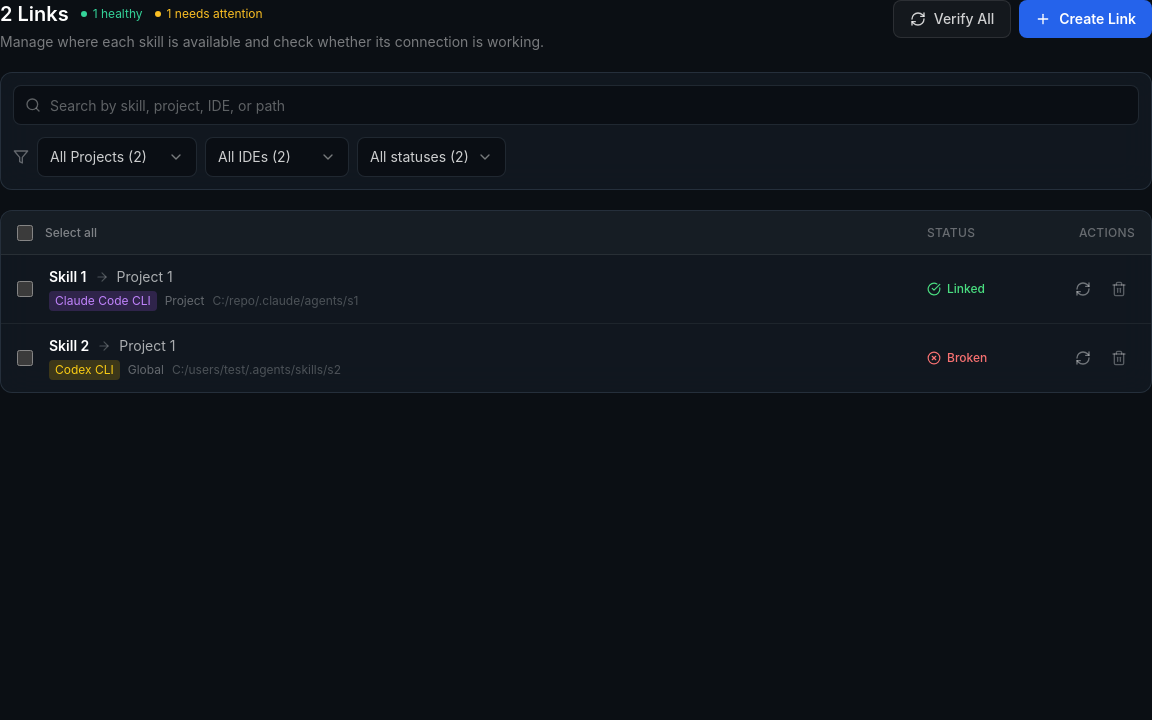
Test: LinksPage › removes selected links in bulk and reports partial failures
Expected: the heading "2 Links" is shown, [0, 0, 69, 28]
Click the checkbox labelled "Select all": (25, 232) [17, 224, 33, 240]
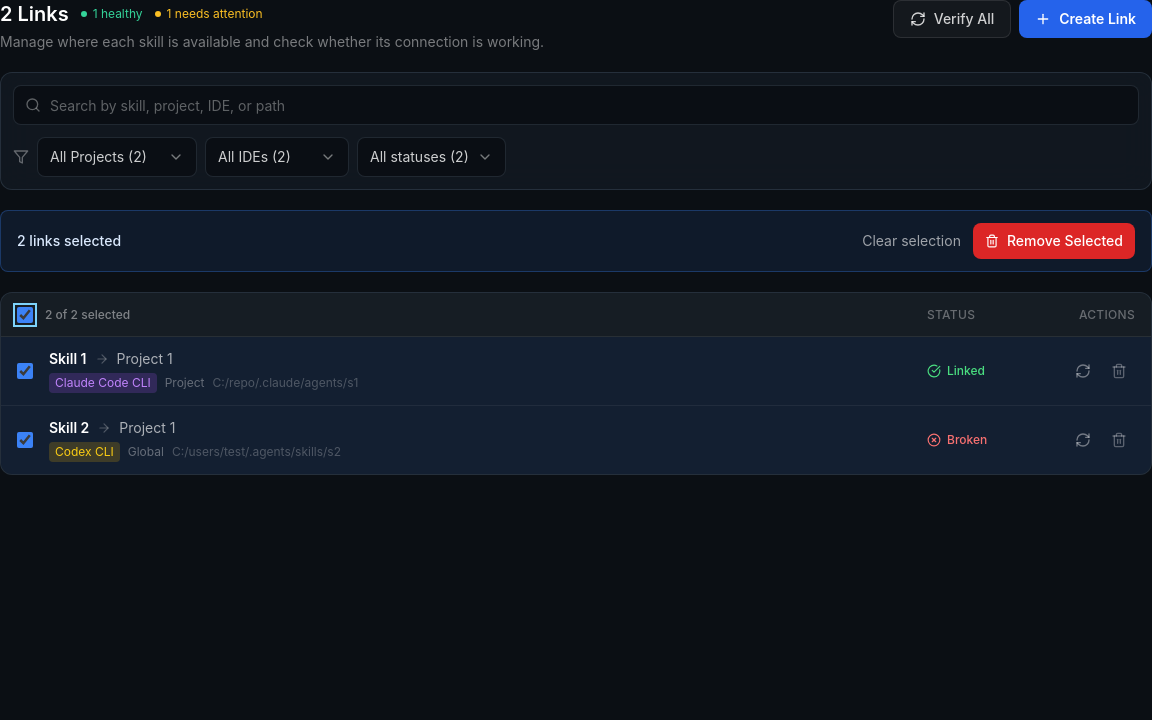
Click the button "Remove Selected": (1054, 241) [973, 223, 1135, 259]
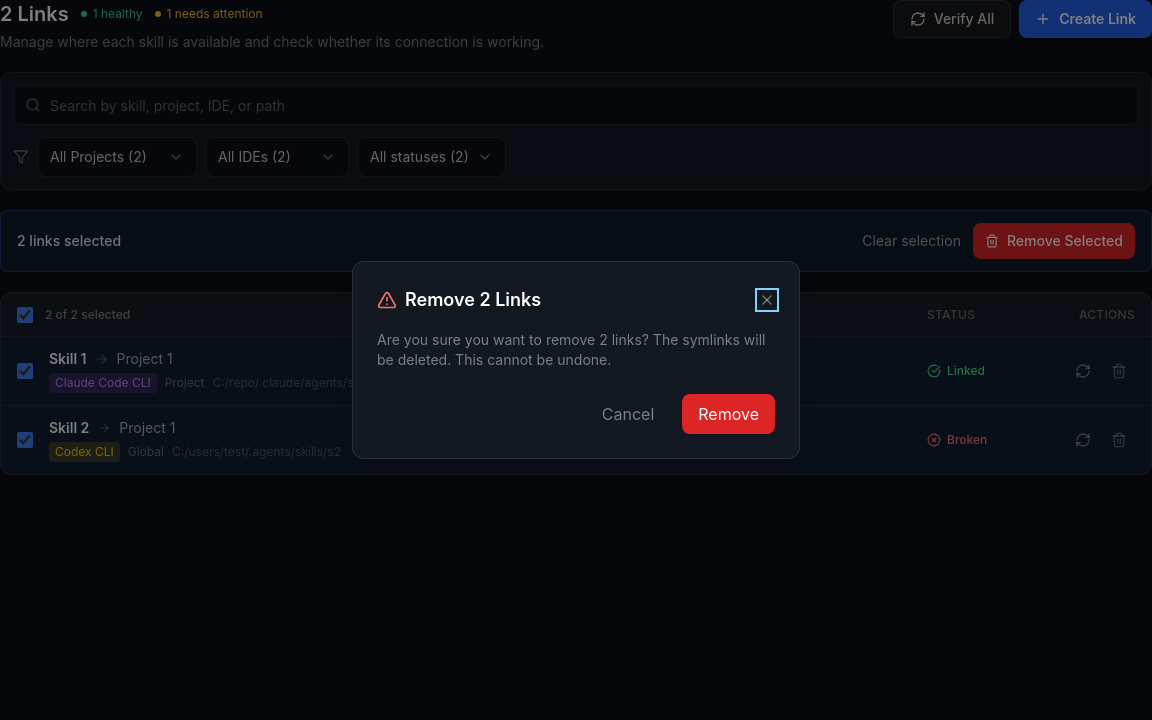
Click the button "Remove": (729, 414) [682, 394, 775, 434]
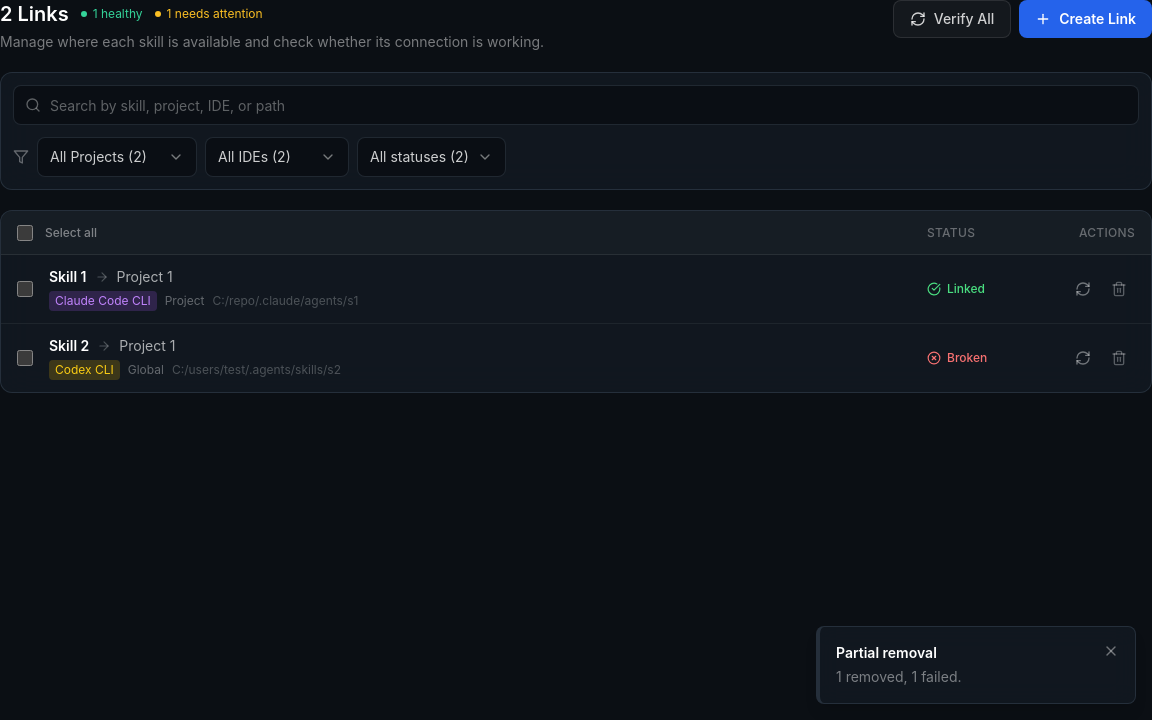
Expected: the text "Partial removal" is shown, [836, 644, 937, 661]
